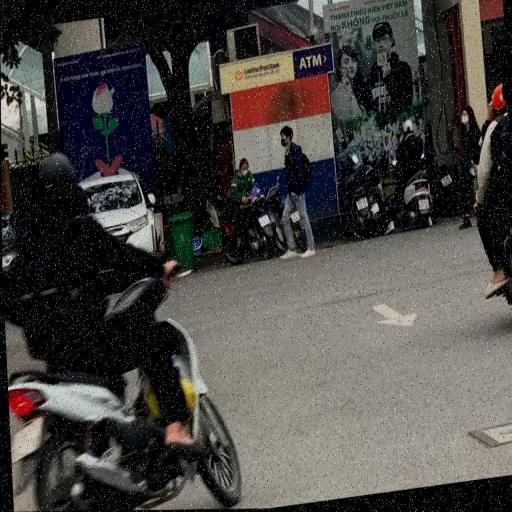bike: (1, 128, 244, 512), (468, 81, 512, 323), (385, 114, 438, 237)
numberplate: (8, 412, 48, 463), (354, 194, 369, 213), (289, 209, 302, 226), (416, 196, 428, 214), (256, 214, 270, 228)
with helmet: (32, 148, 78, 199), (401, 117, 415, 136)
